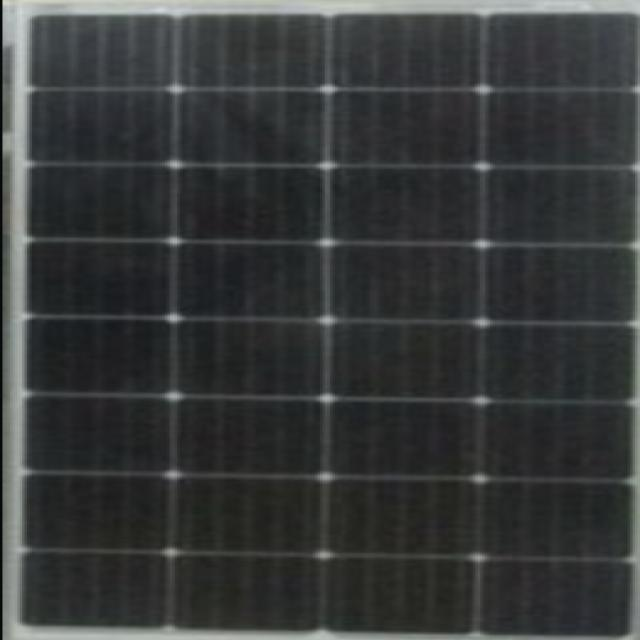dust-solar-panel: (24, 14, 635, 636)
